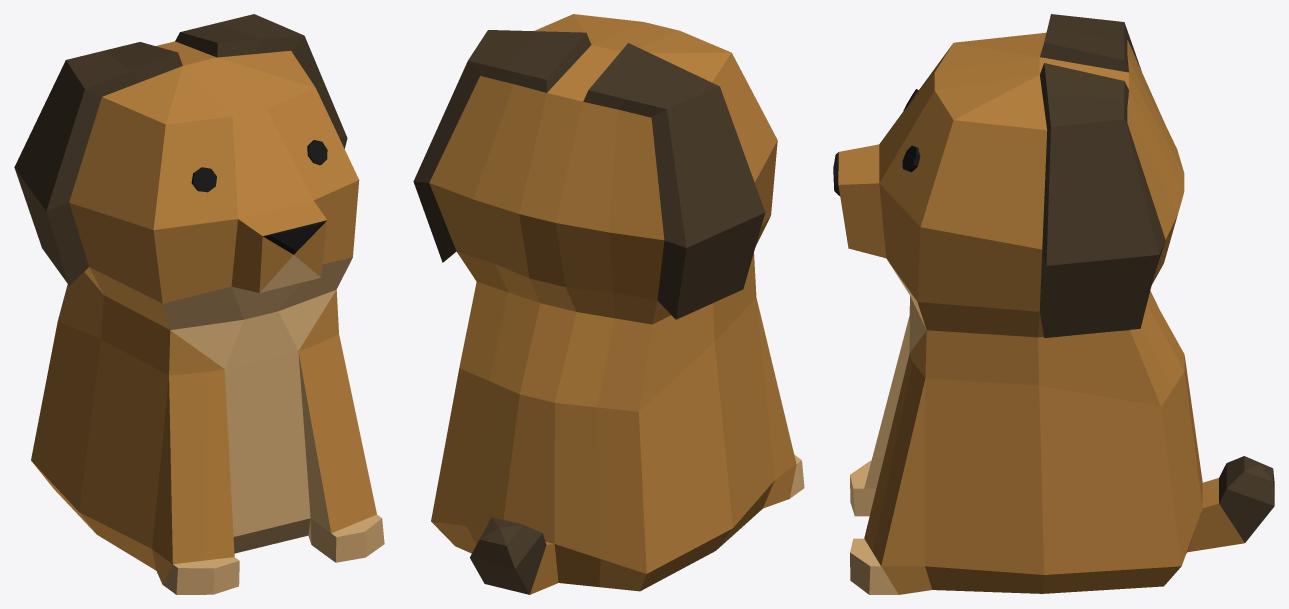
The model's file is Puppy_01.fbx.
The picture shows the model from 3 angles, left to right: view 1: azimuth 30°, elevation 25°; view 2: azimuth 150°, elevation 25°; view 3: azimuth 270°, elevation 25°; orthographic projection. The views are drawn at different scales.
Visible parts, largest first — view 1: Puppy_01; view 2: Puppy_01; view 3: Puppy_01.
Boxes of the visible parts, box(x1,y1,x2,y2) form: Puppy_01: box(14, 14, 384, 594); Puppy_01: box(413, 14, 804, 594); Puppy_01: box(833, 14, 1274, 594).
Bounding box in the file's own units: 4.14 × 6.06 × 4.96.
